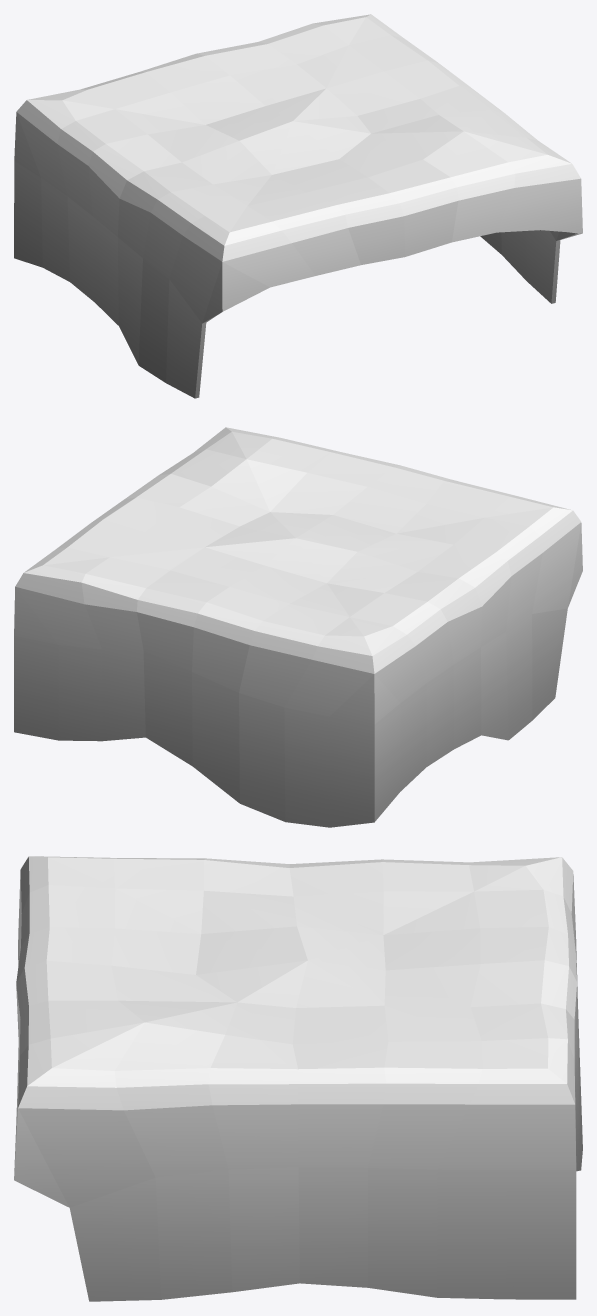
File: SM_Fabric_Roof_White.fbx
3 views of the same model, one above another, from view 1: azimuth 30°, elevation 25°; view 2: azimuth 150°, elevation 25°; view 3: azimuth 270°, elevation 25° (orthographic). The views are drawn at different scales.
Parts seen in each view (by area): view 1: Market_Fabric_Roof_White_M2_Mash; view 2: Market_Fabric_Roof_White_M2_Mash; view 3: Market_Fabric_Roof_White_M2_Mash.
Boxes of the visible parts, x1=… form: Market_Fabric_Roof_White_M2_Mash: x1=14, y1=14, x2=582, y2=398; Market_Fabric_Roof_White_M2_Mash: x1=14, y1=427, x2=582, y2=827; Market_Fabric_Roof_White_M2_Mash: x1=14, y1=856, x2=582, y2=1301.
Bounding box in the file's own units: 3.53 × 1.77 × 3.53.
